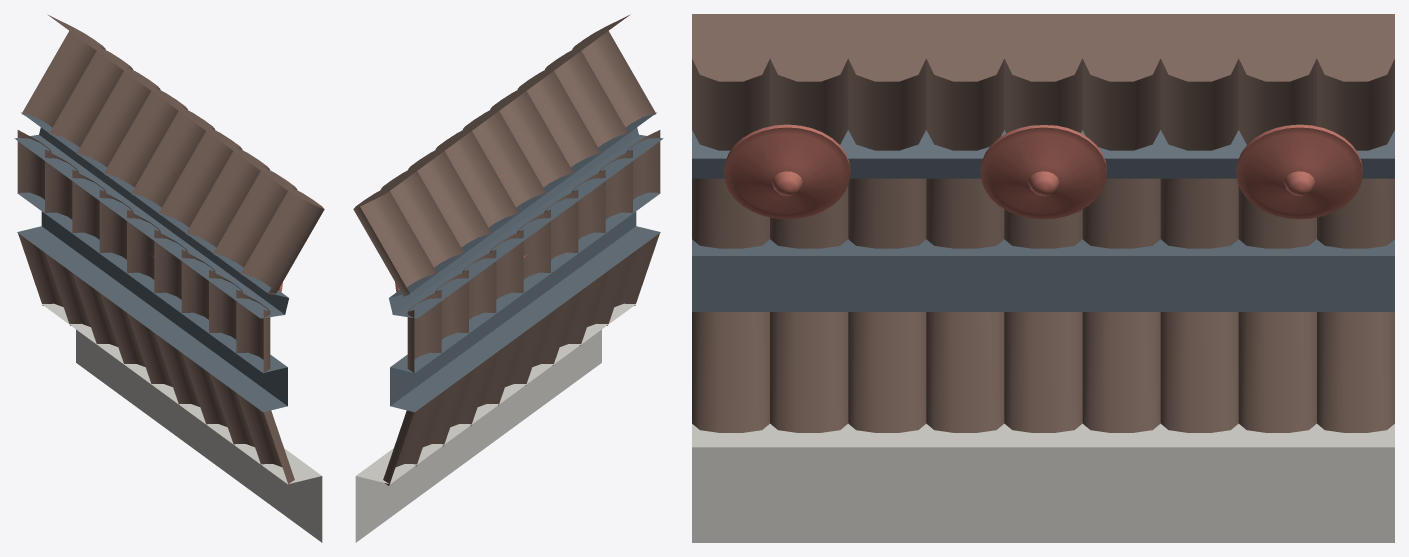
Rendered from MSH_Wall_01.fbx.
3 views of the same model, side by side, from view 1: azimuth 30°, elevation 25°; view 2: azimuth 150°, elevation 25°; view 3: azimuth 270°, elevation 25° (orthographic). The views are drawn at different scales.
Visible parts, largest first — view 1: MSH_Wall_01; view 2: MSH_Wall_01; view 3: MSH_Wall_01.
Boxes of the visible parts, left/top/right/bottom form: MSH_Wall_01: left=14, top=14, right=324, bottom=542; MSH_Wall_01: left=353, top=14, right=663, bottom=542; MSH_Wall_01: left=692, top=14, right=1394, bottom=542.
Bounding box in the file's own units: 74.93 × 359 × 450.
